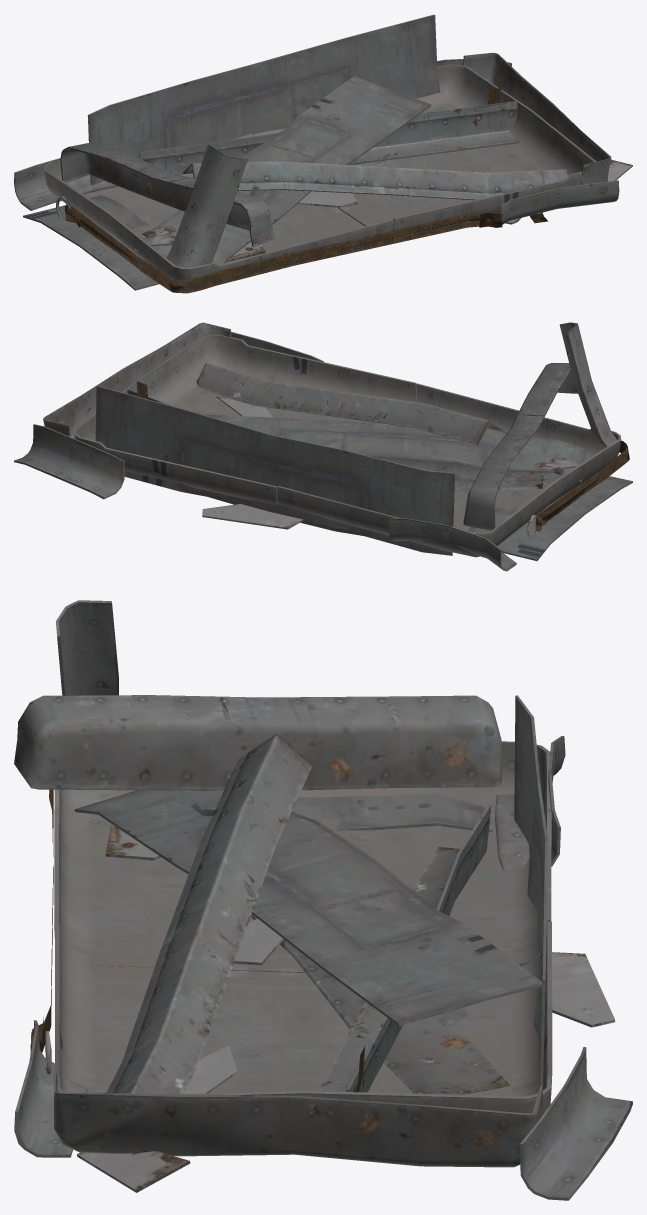
Rendered from component.box.armor.large.corpse.glb.
The picture shows the model from 3 angles, top to bottom: view 1: azimuth 30°, elevation 25°; view 2: azimuth 150°, elevation 25°; view 3: azimuth 270°, elevation 25°; orthographic projection. The views are drawn at different scales.
Visible parts, largest first — view 1: CombinedGibsMesh; view 2: CombinedGibsMesh; view 3: CombinedGibsMesh.
Boxes of the visible parts, <box> form: CombinedGibsMesh: <box>14,14,632,293</box>; CombinedGibsMesh: <box>14,322,632,571</box>; CombinedGibsMesh: <box>14,600,632,1200</box>.
Size of the model in its own units: 2.16 by 0.6411 by 1.32.
Materials: 1 (1 with a texture image).
